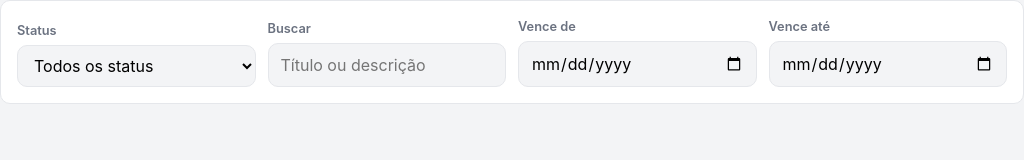
Test: TaskFilters › keeps the typed search term and reveals the clear button
This screenshot has width=1024, height=160.
Type "abc" into the search field with test id "filter-search".
click(387, 65); type("abc")  # box [268, 43, 506, 87]
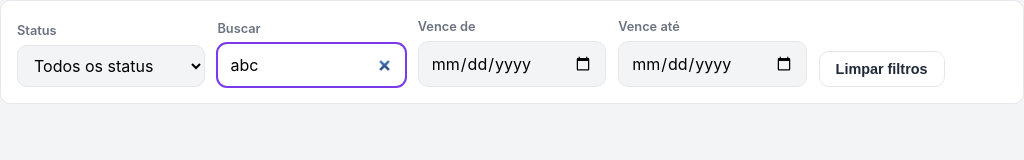
Check: the button with test id "filter-clear" is shown
Click the button with test id "filter-clear".
click(882, 69)  # box [819, 51, 945, 87]
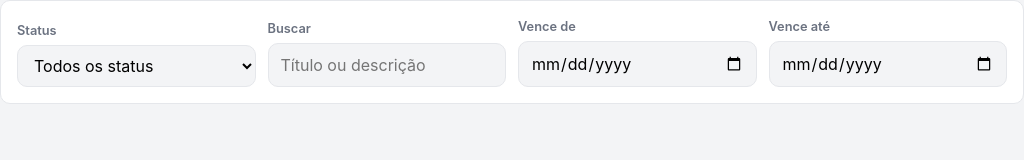
Check: the search field with test id "filter-search" is empty, box [268, 43, 506, 87]
Check: the button with test id "filter-clear" is gone
